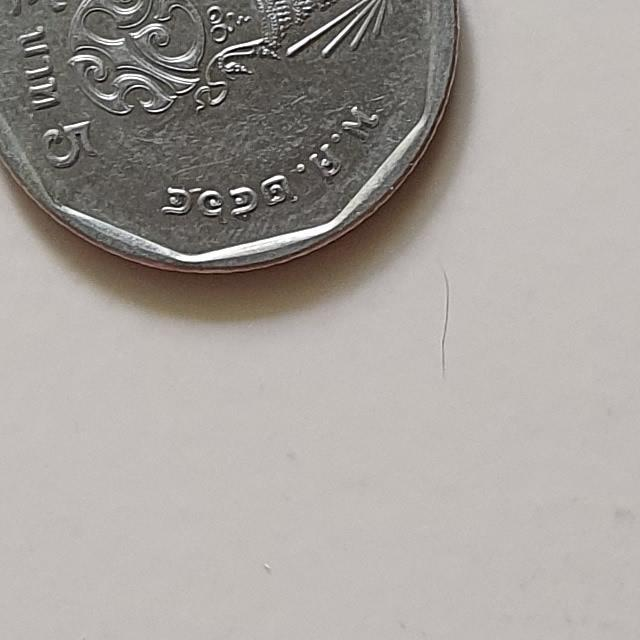5 Bath: (1, 1, 470, 284)
